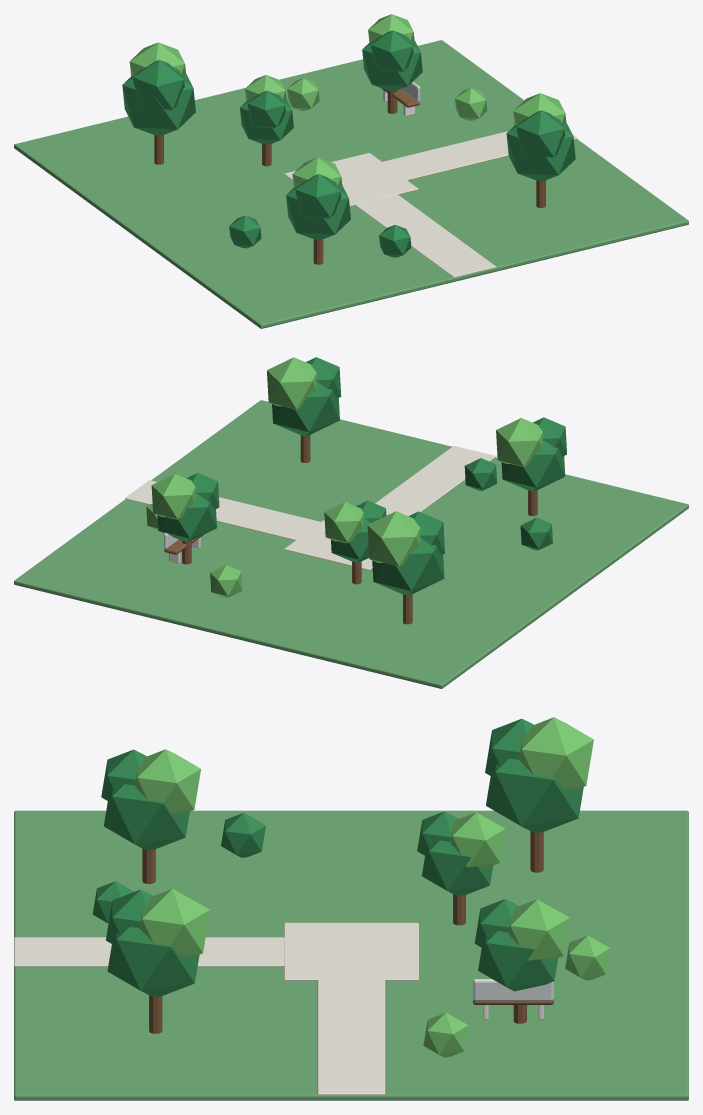
Rendered from lot-park.glb.
The picture shows the model from 3 angles, top to bottom: view 1: azimuth 30°, elevation 25°; view 2: azimuth 150°, elevation 25°; view 3: azimuth 270°, elevation 25°; orthographic projection. The views are drawn at different scales.
Parts seen in each view (by area): view 1: lot_park__Tile_Green_11, lot_park__Green_PavedPath_01, lot_park__Park_Tree_2_07, lot_park__Park_Tree_4_09, lot_park__Park_Tree_1_06, lot_park__Park_Tree_3_08, lot_park__Park_Tree_5_10, lot_park__Park_Shrub_3_04, lot_park__Park_Shrub_2_03, lot_park__Park_Shrub_4_05, lot_park__Park_Shrub_1_02, lot_park__Bench_Park_12; view 2: lot_park__Tile_Green_11, lot_park__Green_PavedPath_01, lot_park__Park_Tree_2_07, lot_park__Park_Tree_4_09, lot_park__Park_Tree_1_06, lot_park__Park_Tree_3_08, lot_park__Park_Tree_5_10, lot_park__Park_Shrub_2_03, lot_park__Park_Shrub_1_02, lot_park__Park_Shrub_3_04, lot_park__Bench_Park_12; view 3: lot_park__Tile_Green_11, lot_park__Green_PavedPath_01, lot_park__Park_Tree_2_07, lot_park__Park_Tree_4_09, lot_park__Park_Tree_1_06, lot_park__Park_Tree_3_08, lot_park__Park_Tree_5_10, lot_park__Bench_Park_12, lot_park__Park_Shrub_2_03, lot_park__Park_Shrub_1_02, lot_park__Park_Shrub_4_05, lot_park__Park_Shrub_3_04.
Boxes of the visible parts, x1,y1,x2,y2 form: lot_park__Tile_Green_11: (14,40,688,328); lot_park__Green_PavedPath_01: (284,131,577,277); lot_park__Park_Tree_2_07: (122,42,195,164); lot_park__Park_Tree_4_09: (506,93,575,207); lot_park__Park_Tree_1_06: (286,157,350,264); lot_park__Park_Tree_3_08: (362,14,422,113); lot_park__Park_Tree_5_10: (240,75,293,166); lot_park__Park_Shrub_3_04: (379,225,411,257); lot_park__Park_Shrub_2_03: (287,78,319,110); lot_park__Park_Shrub_4_05: (455,88,487,120); lot_park__Park_Shrub_1_02: (229,215,261,248); lot_park__Bench_Park_12: (381,81,420,116); lot_park__Tile_Green_11: (14,400,688,688); lot_park__Green_PavedPath_01: (125,446,496,570); lot_park__Park_Tree_2_07: (367,511,444,624); lot_park__Park_Tree_4_09: (267,357,341,462); lot_park__Park_Tree_1_06: (496,417,566,515); lot_park__Park_Tree_3_08: (151,473,219,564); lot_park__Park_Tree_5_10: (324,500,386,584); lot_park__Park_Shrub_2_03: (210,565,242,597); lot_park__Park_Shrub_1_02: (520,517,552,550); lot_park__Park_Shrub_3_04: (464,458,496,490); lot_park__Bench_Park_12: (164,533,203,563); lot_park__Tile_Green_11: (14,810,688,1100); lot_park__Green_PavedPath_01: (14,922,418,1094); lot_park__Park_Tree_2_07: (485,717,593,872); lot_park__Park_Tree_4_09: (106,888,210,1033); lot_park__Park_Tree_1_06: (101,749,200,883); lot_park__Park_Tree_3_08: (474,899,569,1023); lot_park__Park_Tree_5_10: (417,811,505,925); lot_park__Bench_Park_12: (473,979,553,1019); lot_park__Park_Shrub_2_03: (565,935,610,980); lot_park__Park_Shrub_1_02: (221,813,265,857); lot_park__Park_Shrub_4_05: (423,1012,468,1057); lot_park__Park_Shrub_3_04: (92,881,133,923).
Bounding box in the file's own units: 20 × 5.31 × 20.
